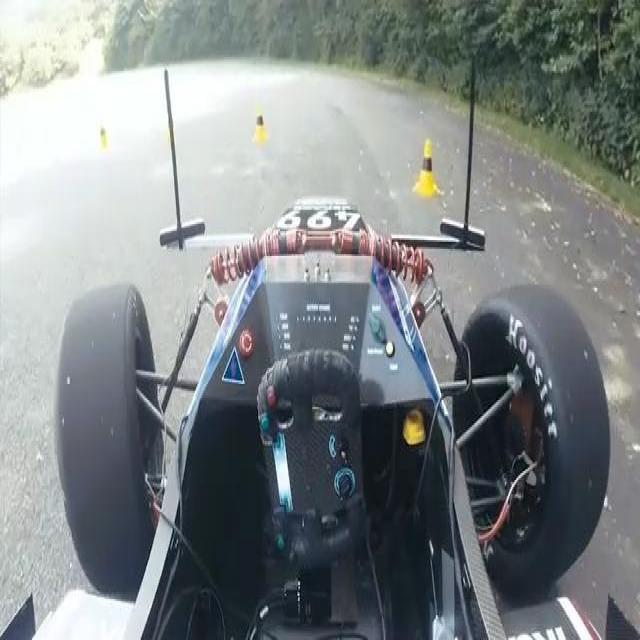yellow_cone: (411, 135, 442, 207), (251, 102, 269, 146)
